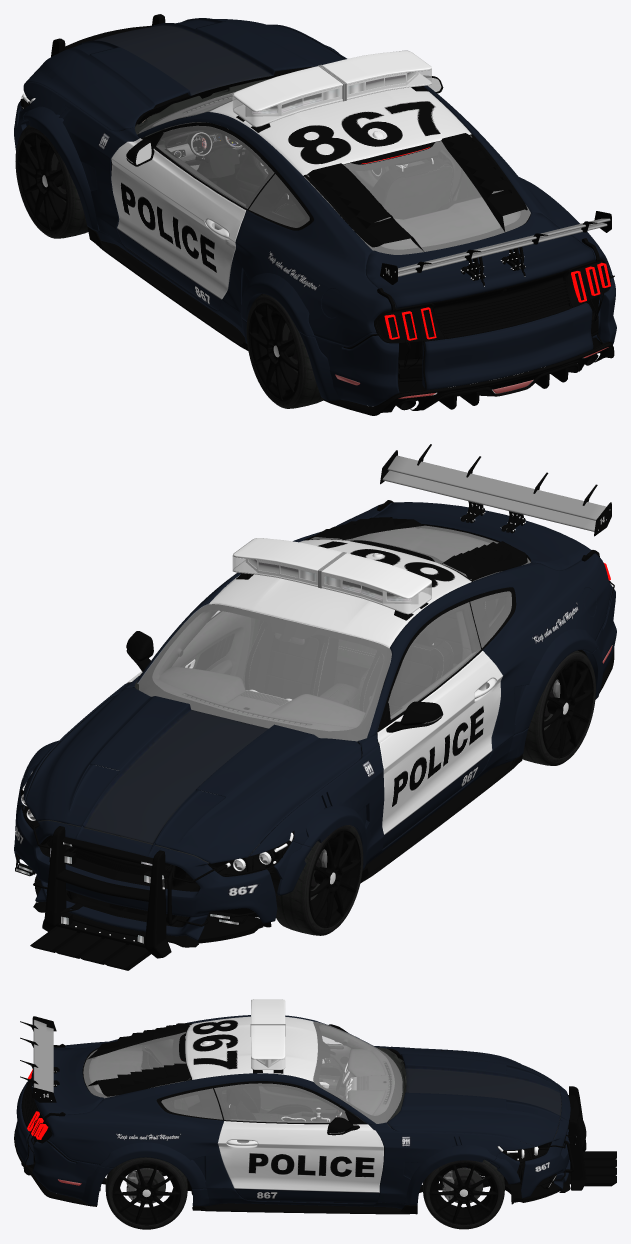
3 views of the same model, one above another, from view 1: azimuth 30°, elevation 25°; view 2: azimuth 150°, elevation 25°; view 3: azimuth 270°, elevation 25° (orthographic). The views are drawn at different scales.
Parts seen in each view (by area): view 1: kit_ok_0, kit_ok_0_02, glass, kit_ok_0_05, kit_ok_0_04, body2_ok_1, body2_ok_1_04, body2_ok_1_06, sirine_ok_4, kit_ok_0_06, body2_ok_1_02, body2_ok_1_05 (+26 smaller); view 2: kit_ok_0_02, glass, kit_ok_0, kit_ok_0_05, seat_1, kit_ok_0_03, body2_ok_1_04, body2_ok_1_03, sirine_ok_3, kit_ok_0_06, cockpitdash_2_02, sirine_ok_4 (+20 smaller); view 3: kit_ok_0_06, kit_ok_0, kit_ok_0_02, glass, body2_ok_1_04, kit_ok_0_05, kit_ok_0_04, cockpitdash_2, cockpitdash_2_02, body2_ok_1, body2_ok_1_02, cockpitdash_2_03 (+25 smaller).
Boxes of the visible parts, <box> form: kit_ok_0: <box>137,85,612,345</box>; kit_ok_0_02: <box>25,18,594,336</box>; glass: <box>139,92,608,398</box>; kit_ok_0_05: <box>23,24,347,310</box>; kit_ok_0_04: <box>313,274,616,406</box>; body2_ok_1: <box>303,133,527,251</box>; body2_ok_1_04: <box>126,75,607,338</box>; body2_ok_1_06: <box>119,67,570,338</box>; sirine_ok_4: <box>136,50,441,164</box>; kit_ok_0_06: <box>15,45,600,400</box>; body2_ok_1_02: <box>87,211,611,351</box>; body2_ok_1_05: <box>323,259,614,415</box>; kit_ok_0_02: <box>25,502,591,864</box>; glass: <box>22,526,612,869</box>; kit_ok_0: <box>137,502,611,748</box>; kit_ok_0_05: <box>23,651,502,862</box>; seat_1: <box>195,572,494,714</box>; kit_ok_0_03: <box>14,801,302,940</box>; body2_ok_1_04: <box>15,526,530,944</box>; body2_ok_1_03: <box>20,698,362,958</box>; sirine_ok_3: <box>318,455,606,588</box>; kit_ok_0_06: <box>15,629,602,895</box>; cockpitdash_2_02: <box>152,658,365,731</box>; sirine_ok_4: <box>232,538,431,614</box>; kit_ok_0_06: <box>81,1121,520,1205</box>; kit_ok_0: <box>46,1015,377,1187</box>; kit_ok_0_02: <box>31,1044,561,1211</box>; glass: <box>58,1022,524,1185</box>; body2_ok_1_04: <box>29,1022,582,1189</box>; kit_ok_0_05: <box>369,1046,534,1203</box>; kit_ok_0_04: <box>15,1081,99,1199</box>; cockpitdash_2: <box>89,1024,367,1120</box>; cockpitdash_2_02: <box>330,1044,394,1122</box>; body2_ok_1: <box>87,1023,191,1096</box>; body2_ok_1_02: <box>20,1016,417,1214</box>; cockpitdash_2_03: <box>259,1044,393,1183</box>.
Size of what is drawn, in the model's own units: 2.36 by 1.69 by 5.82.
41 materials, 15 textured.
